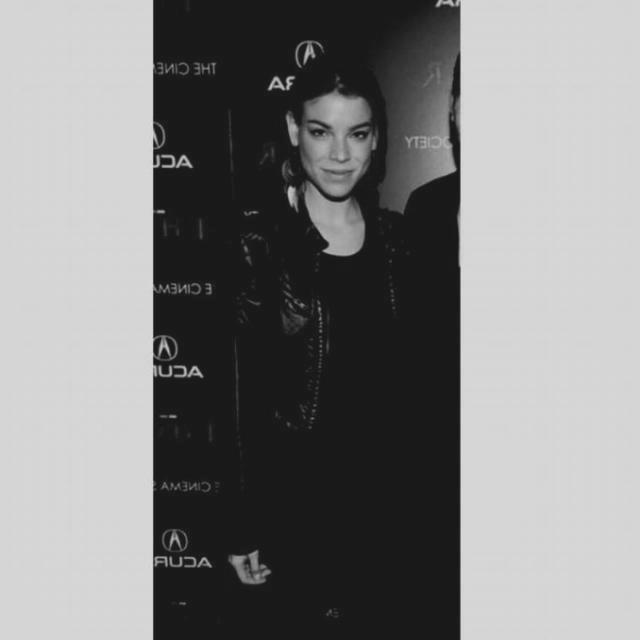real: (281, 72, 393, 204)
